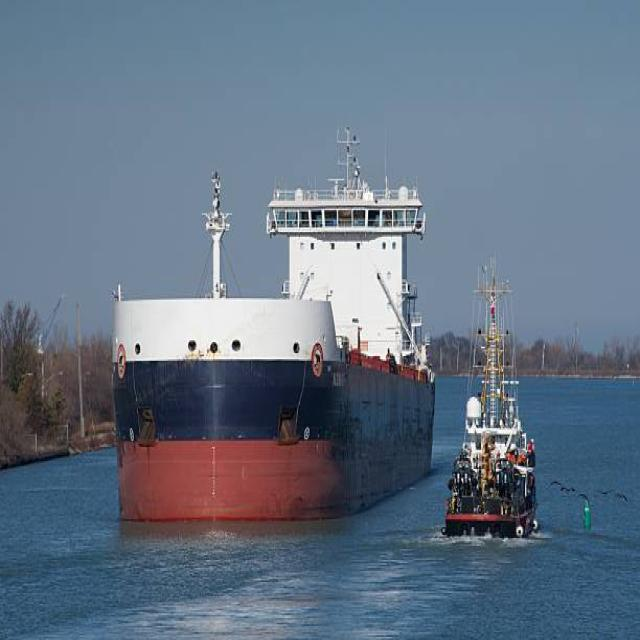PassengerShip: (34, 164, 545, 583)
